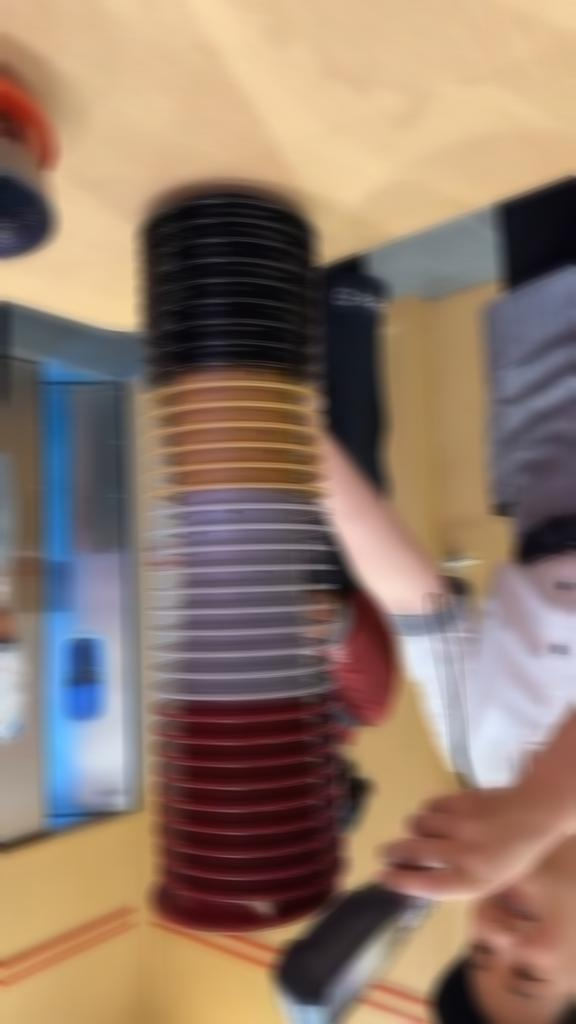Janback: (150, 313, 309, 335), (157, 197, 309, 217), (144, 352, 320, 369), (152, 335, 317, 353), (152, 296, 305, 312), (152, 237, 310, 252), (150, 276, 298, 292), (152, 219, 308, 234), (157, 256, 302, 271)
Jangold: (149, 432, 331, 455), (144, 454, 332, 474), (165, 394, 328, 414), (154, 415, 326, 433), (142, 474, 338, 489), (166, 376, 315, 393)
Janred: (140, 904, 351, 935), (175, 784, 349, 810), (151, 740, 337, 764), (156, 720, 334, 745), (169, 809, 356, 832), (156, 700, 336, 721), (153, 876, 362, 894), (162, 767, 343, 787), (158, 836, 352, 852), (162, 860, 358, 874)
Janwhite: (146, 597, 335, 621), (155, 637, 337, 659), (163, 658, 346, 679), (143, 577, 333, 596), (154, 520, 333, 540), (149, 501, 324, 521), (161, 678, 333, 697), (153, 620, 341, 636), (157, 558, 335, 573), (157, 543, 335, 555)
